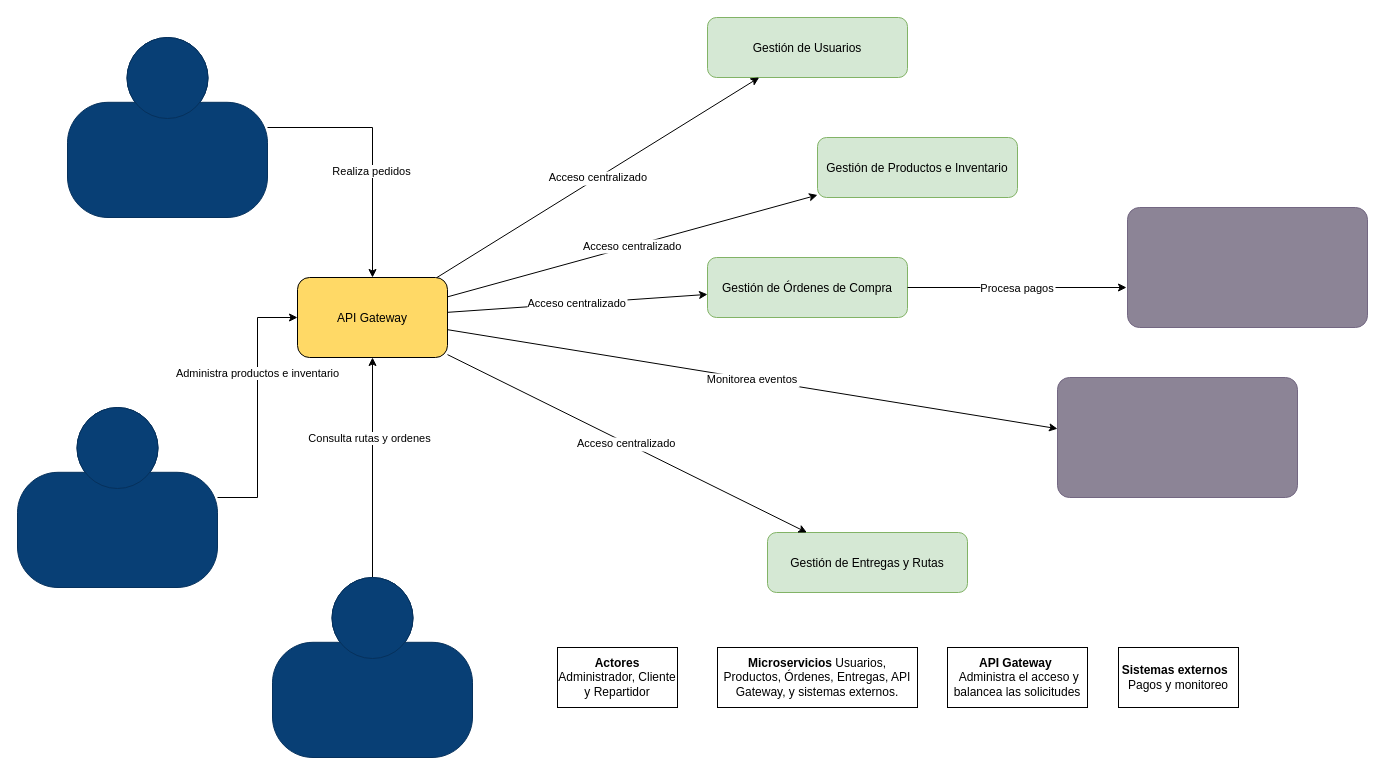
This 1385x775 diagram has some shape labels left out. The shapes that lost their labels are listed below. From the top down, each one's centre as x and y in pixels, then its label:
point 167,127: Cliente [Person] Cliente de la empresa
point 1247,267: Sistema de pagos [Software System] Procesa los pagos
point 1177,437: Sistema de Monitoreo y Logs [Software System] Monitorea
point 117,497: Administrador [Person] Administrador de la empresa
point 372,667: Repartidor [Person] Repartidor de la empresa
